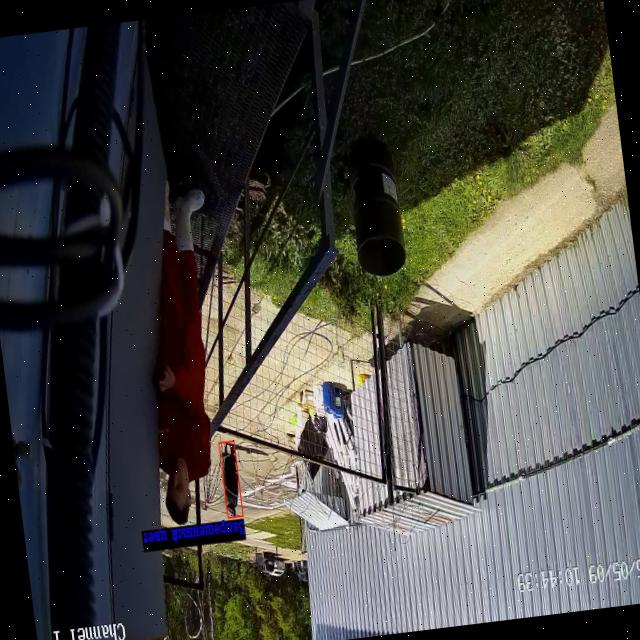Barrel: (351, 138, 406, 275)
Red uniform: (155, 227, 211, 524)
